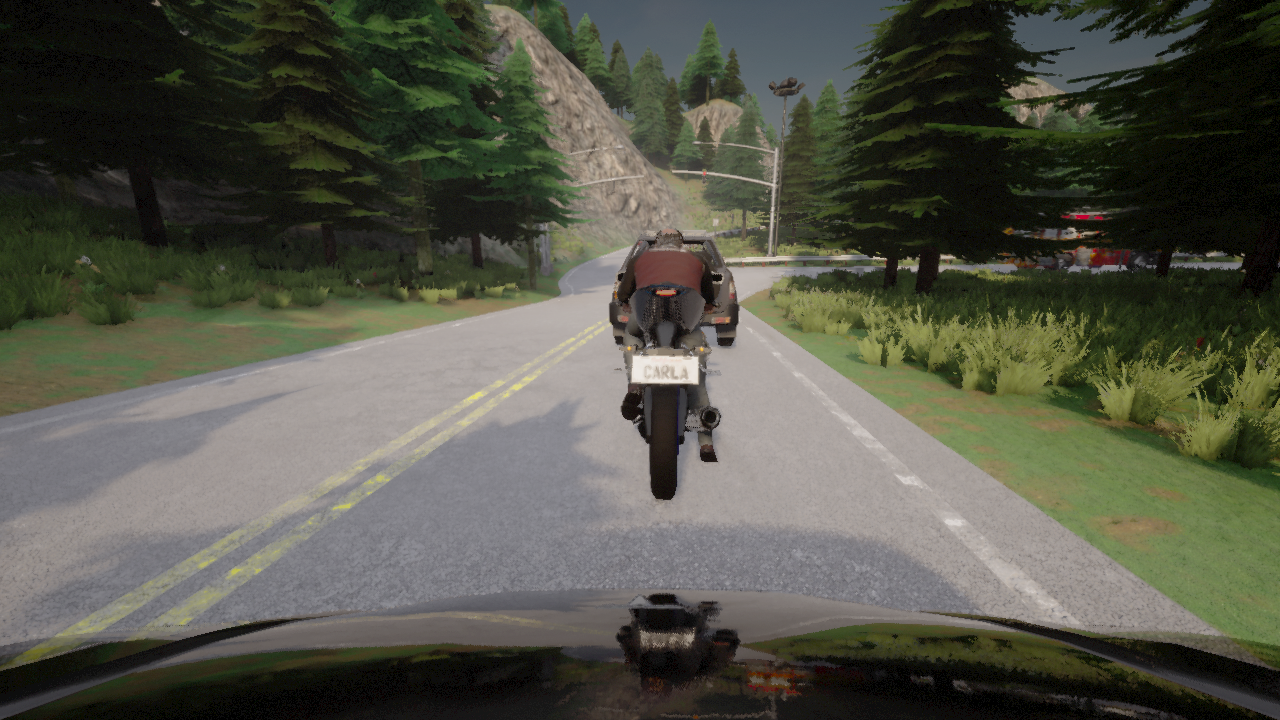cyclist: (0, 588, 1279, 719), (612, 271, 723, 498), (609, 230, 738, 346), (997, 206, 1160, 272), (640, 233, 644, 235)
